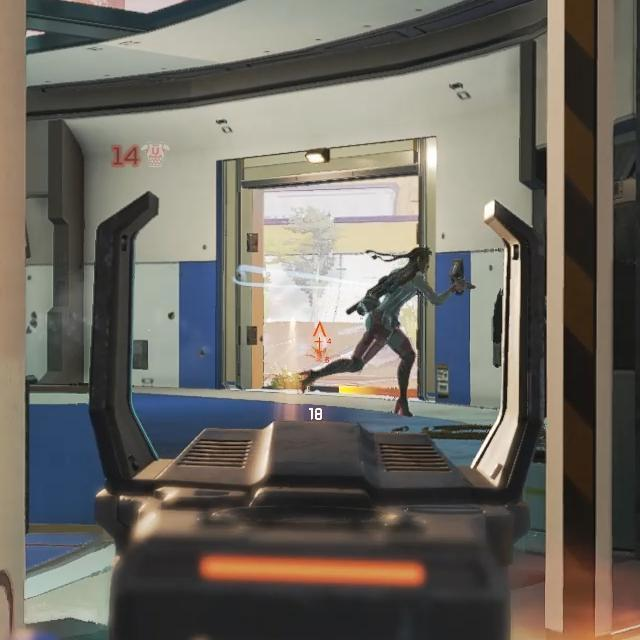avatar: (350, 243, 435, 420)
